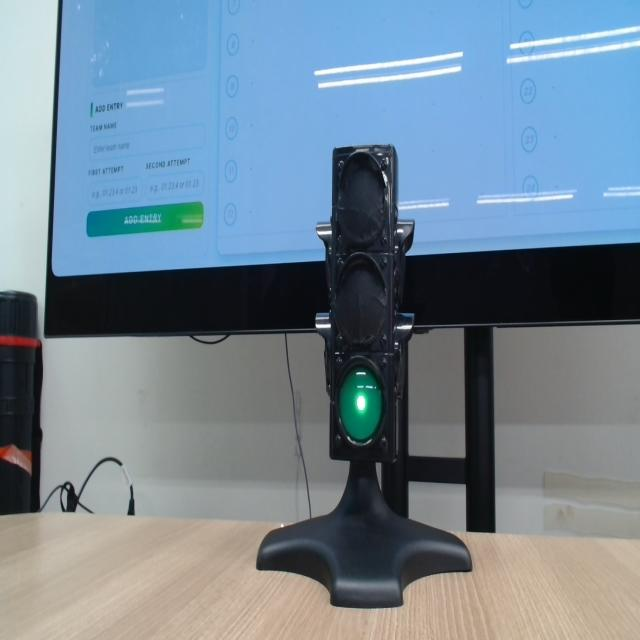green_light: (339, 367, 382, 442)
